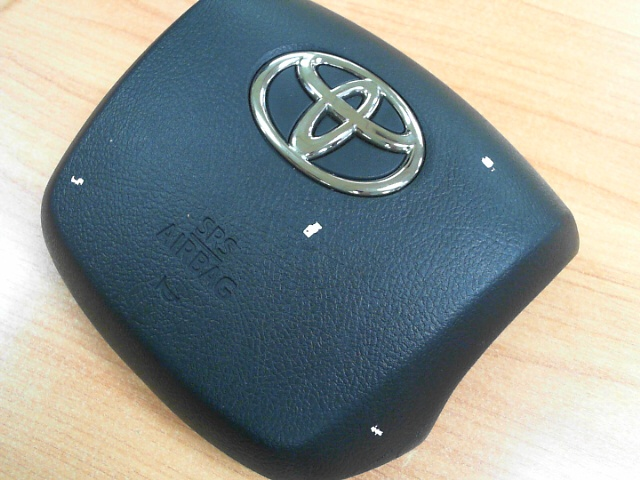Airbag: (302, 221, 323, 239), (480, 155, 496, 174), (70, 175, 85, 187), (370, 425, 383, 437)
